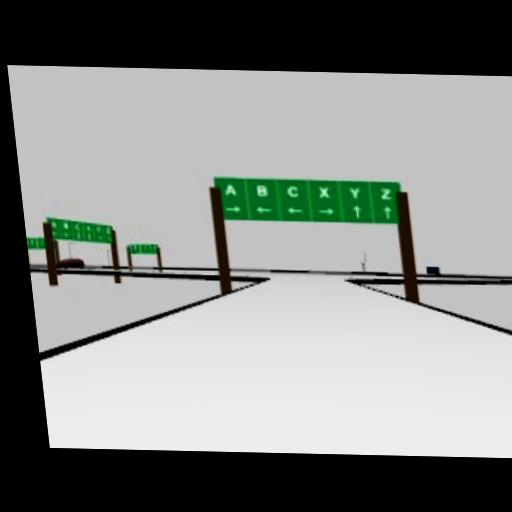A: (224, 183, 237, 195)
B: (254, 183, 269, 198)
C: (285, 184, 300, 198)
Left: (287, 205, 305, 215), (255, 205, 274, 214)
Right: (223, 204, 242, 213), (316, 206, 335, 215)
Straight: (382, 204, 394, 220), (352, 204, 364, 219)
X: (317, 185, 330, 199)
Y: (347, 185, 362, 200)
Z: (378, 186, 393, 200)
